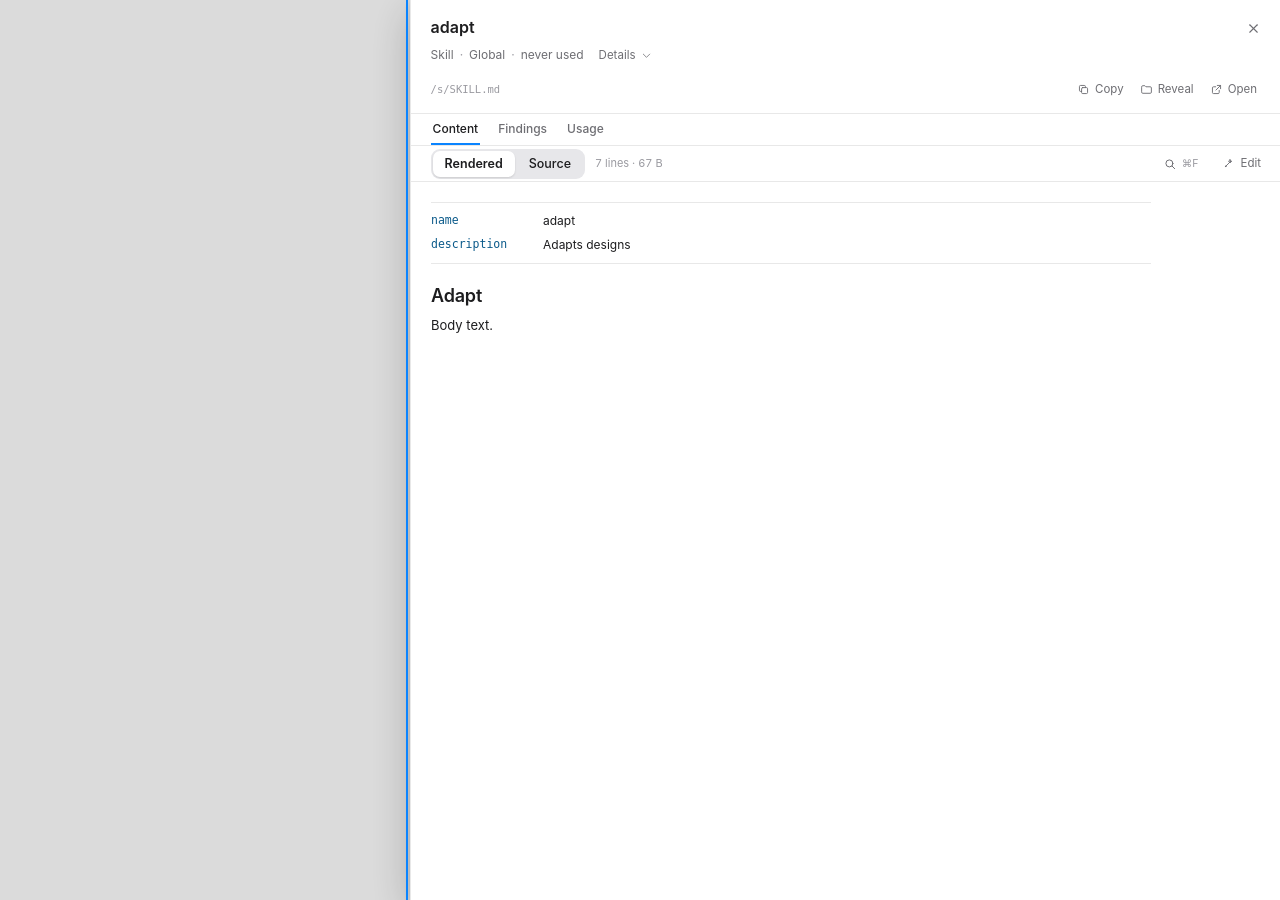
it: ItemViewer › editing › stays in the editor and says why when the save fails
Click the button "Edit" at (1242, 164), box [1216, 152, 1268, 176]
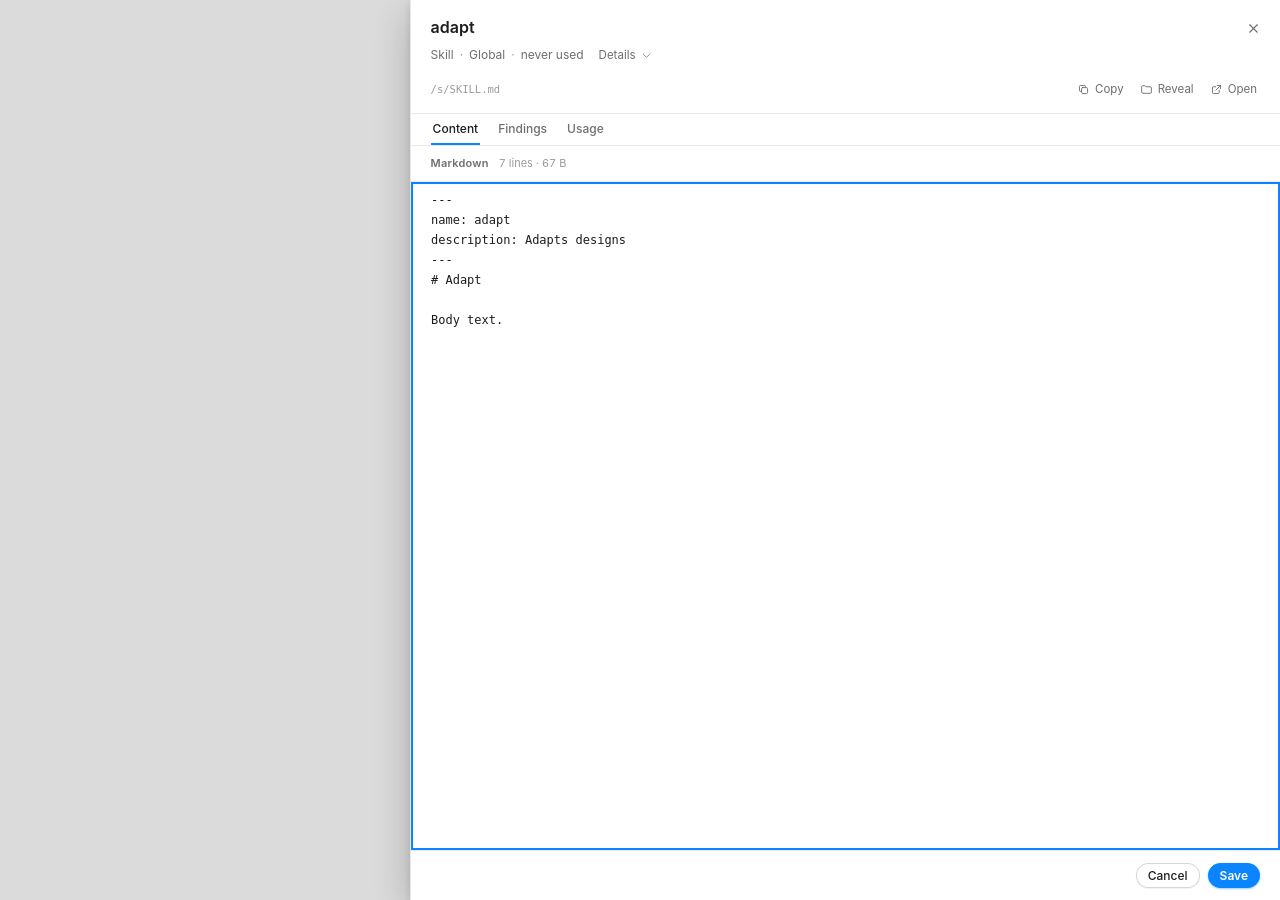
Replace the text in the text box named "item source" with "# Edited" at (845, 516), box [411, 182, 1279, 850]
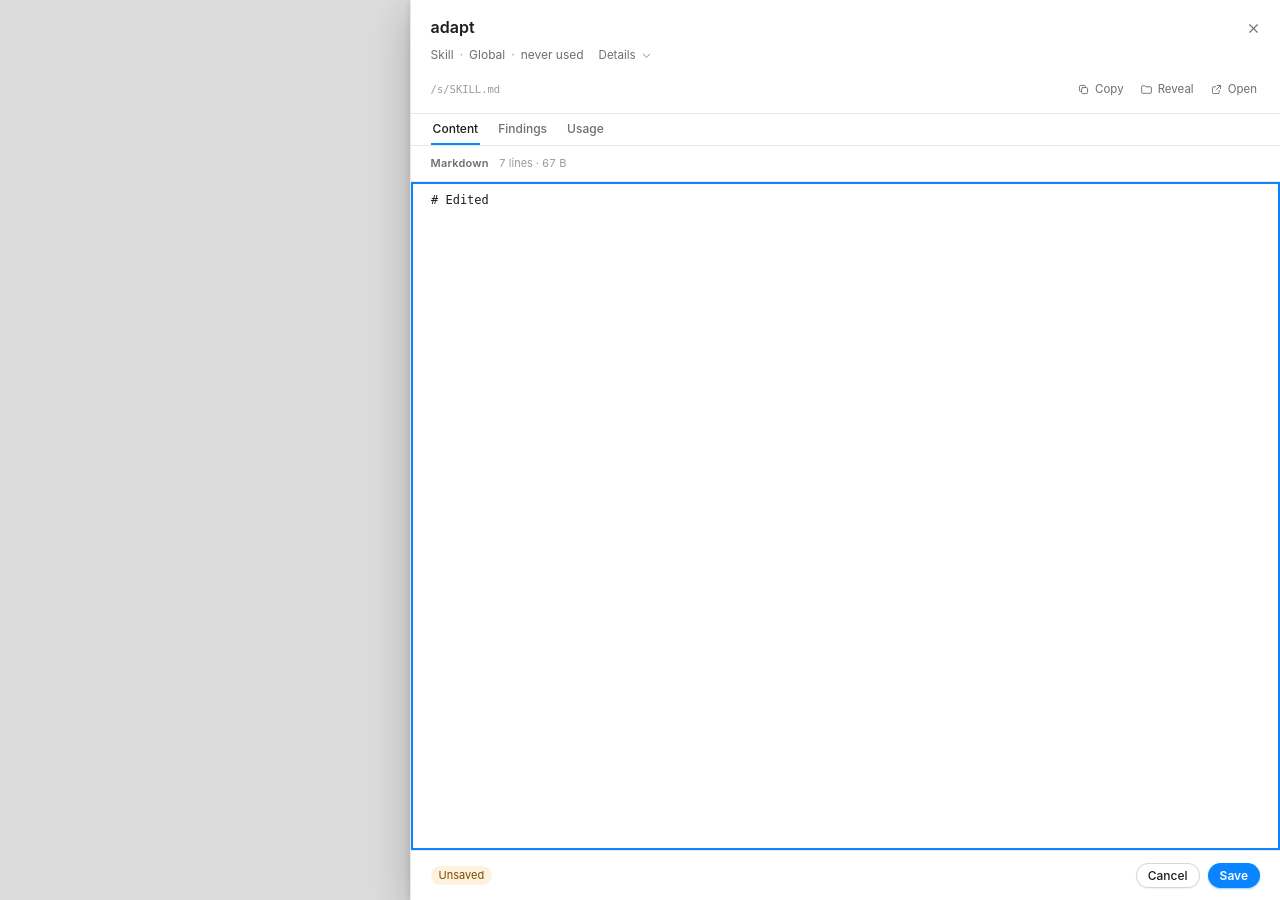
Click the button "Save" at (1234, 876), box [1208, 863, 1260, 888]
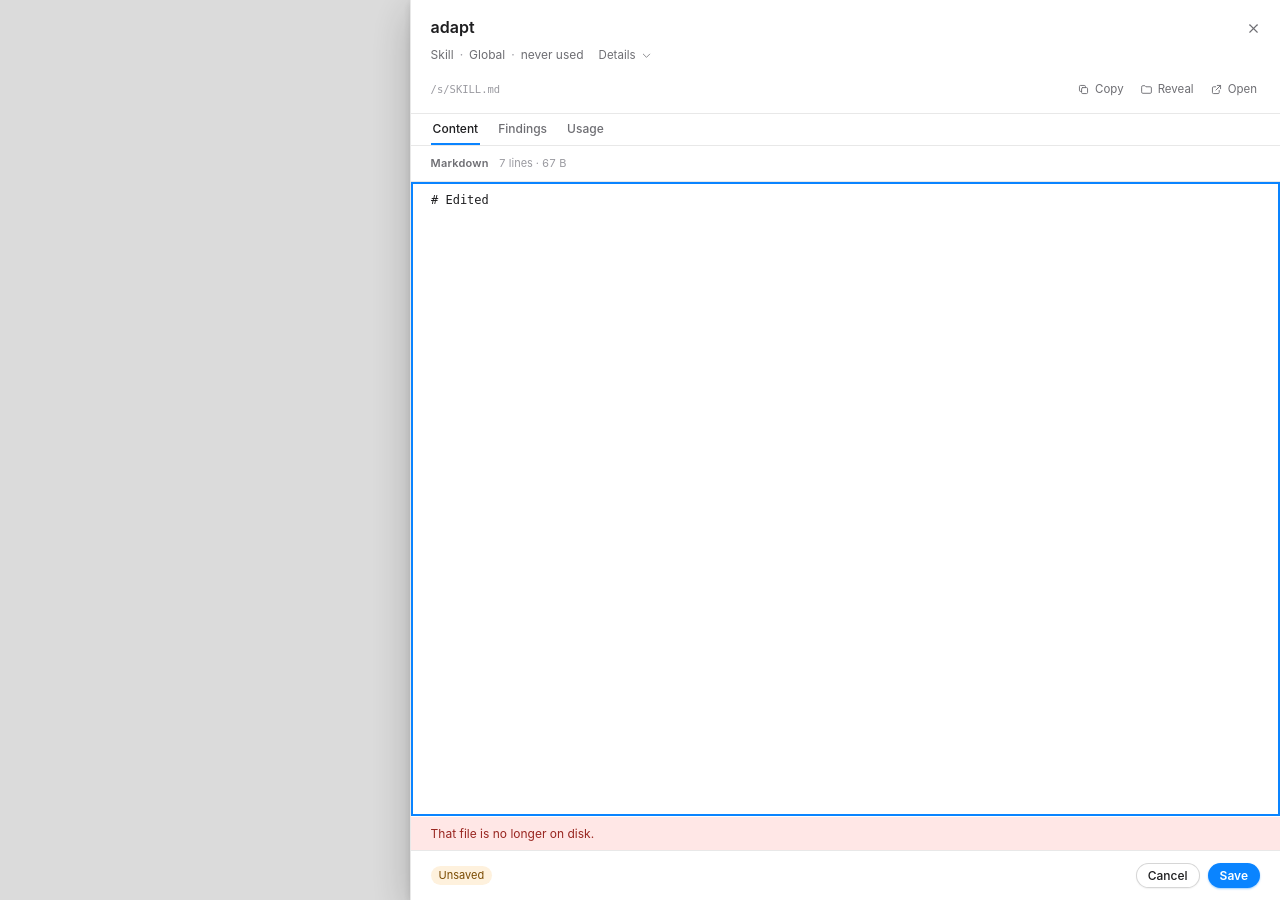
Check: the message reads "That file is no longer on disk.", box [431, 826, 594, 841]
